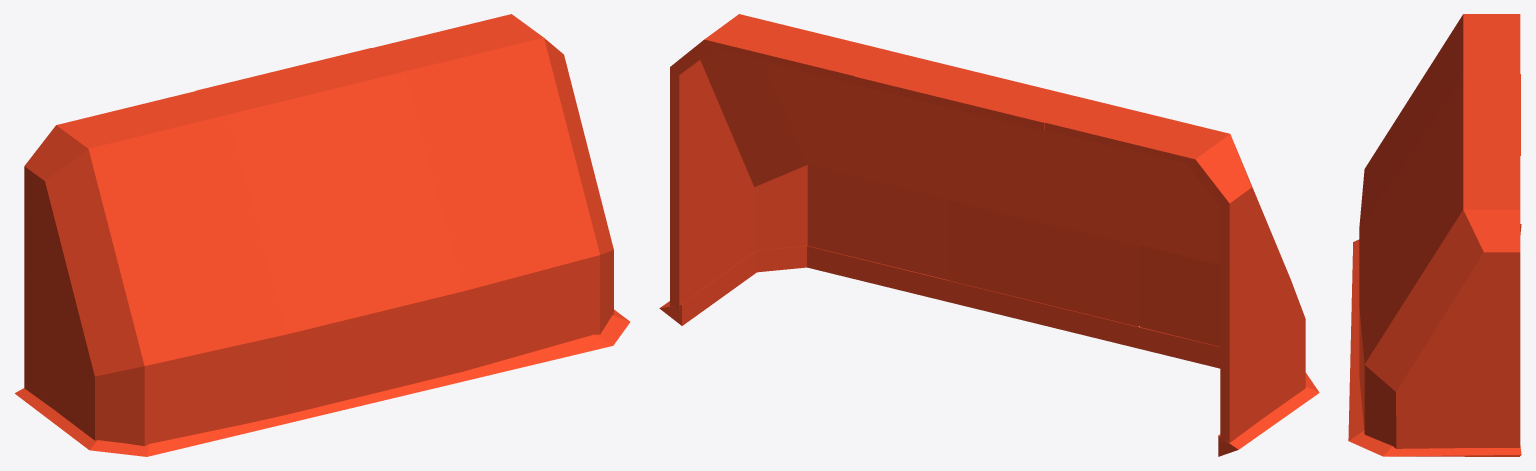
Rendered from SM_Awning_C_City.fbx.
The picture shows the model from 3 angles, left to right: view 1: azimuth 30°, elevation 25°; view 2: azimuth 150°, elevation 25°; view 3: azimuth 270°, elevation 25°; orthographic projection. The views are drawn at different scales.
Parts seen in each view (by area): view 1: SM_Awning_C_City; view 2: SM_Awning_C_City; view 3: SM_Awning_C_City.
Boxes of the visible parts, x1,y1,x2,y2 form: SM_Awning_C_City: (15,14,630,456); SM_Awning_C_City: (659,14,1319,456); SM_Awning_C_City: (1348,14,1521,456).
Size of the model in its own units: 2.04 by 0.9828 by 0.6465.
